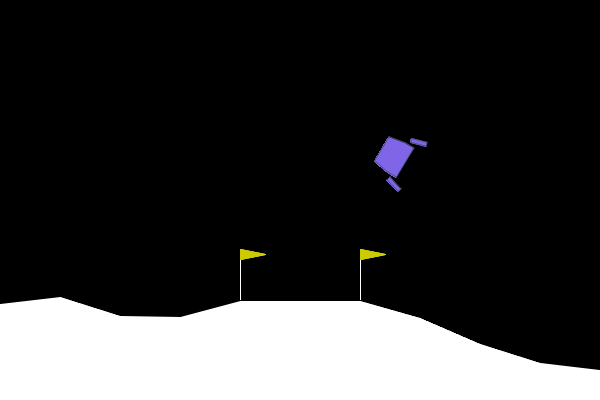lander: (364, 122, 429, 194)
